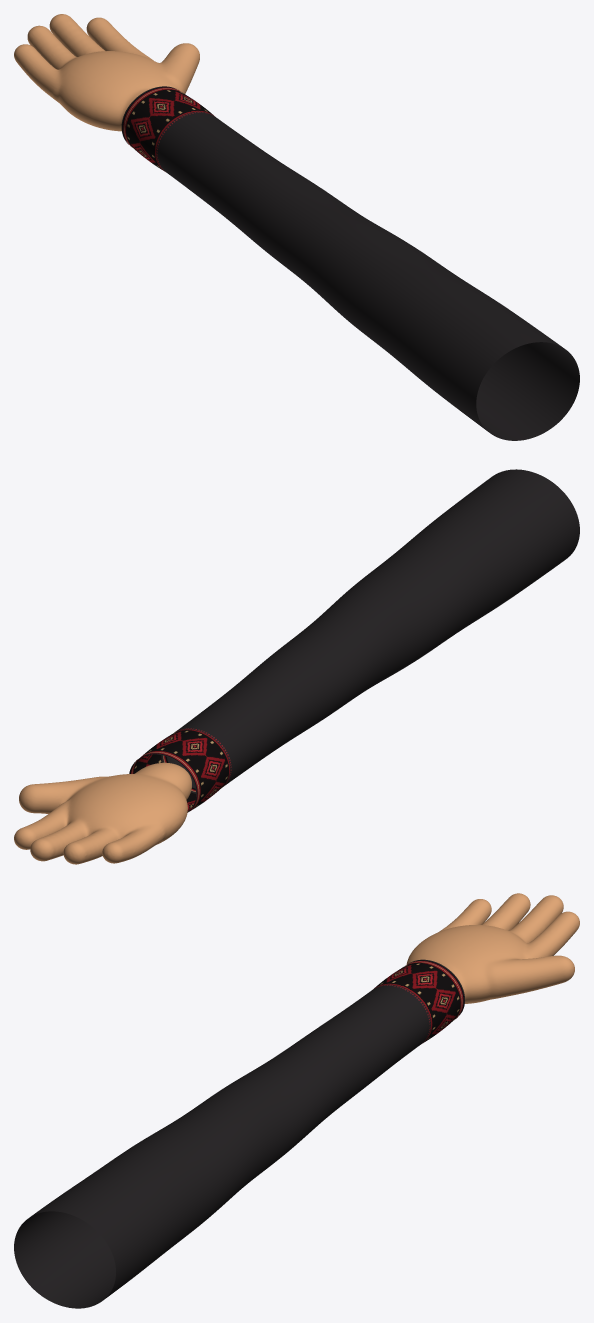
The model's file is mansaf-player-arm-v6.glb.
3 views of the same model, one above another, from view 1: azimuth 30°, elevation 25°; view 2: azimuth 150°, elevation 25°; view 3: azimuth 330°, elevation 25° (orthographic).
Parts seen in each view (by area): view 1: Sleeve, HandSkin, EmbroideredCuff; view 2: Sleeve, HandSkin, EmbroideredCuff; view 3: Sleeve, HandSkin, EmbroideredCuff.
Boxes of the visible parts, box(x1,y1,x2,y2) form: Sleeve: box(156, 111, 579, 440); HandSkin: box(14, 14, 199, 131); EmbroideredCuff: box(122, 87, 213, 171); Sleeve: box(161, 469, 579, 793); HandSkin: box(14, 762, 191, 864); EmbroideredCuff: box(130, 729, 229, 812); Sleeve: box(14, 984, 430, 1308); HandSkin: box(406, 893, 579, 1003); EmbroideredCuff: box(374, 960, 464, 1043).
Size of the model in its own units: 0.4501 by 0.2834 by 2.61.
Materials: 4 (1 with a texture image).
